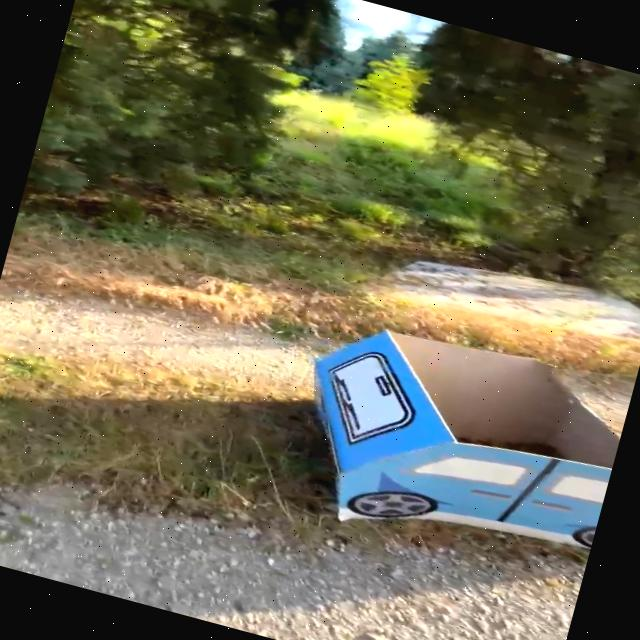blue_car: (230, 261, 640, 597)
